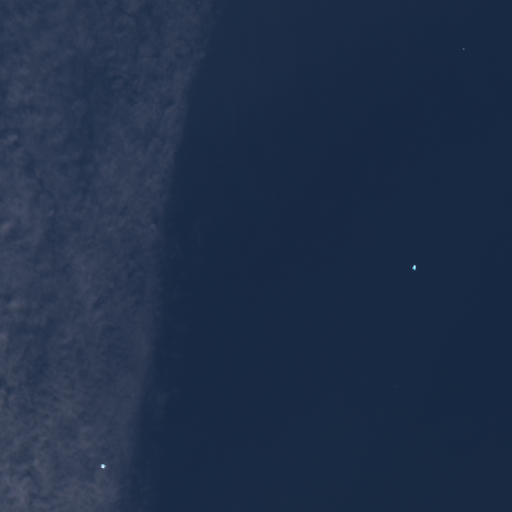Iceberg: (100, 464, 105, 468), (412, 265, 415, 270), (463, 48, 464, 49)
